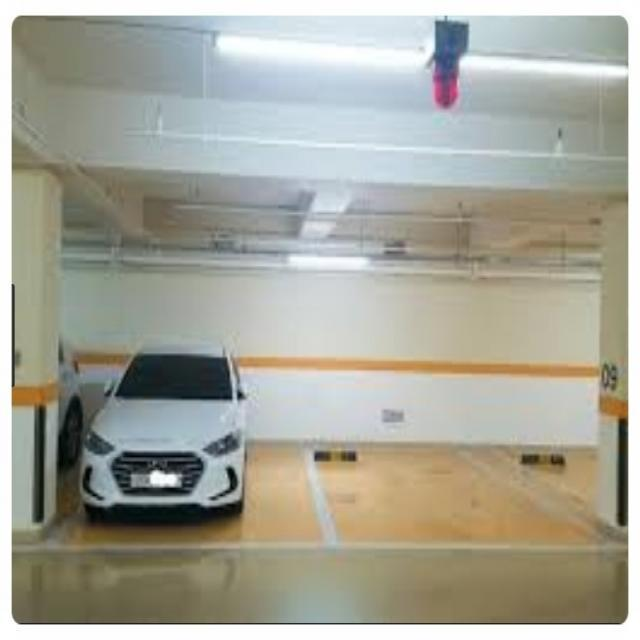empty: (330, 352, 600, 552)
occupied: (58, 352, 306, 532)
